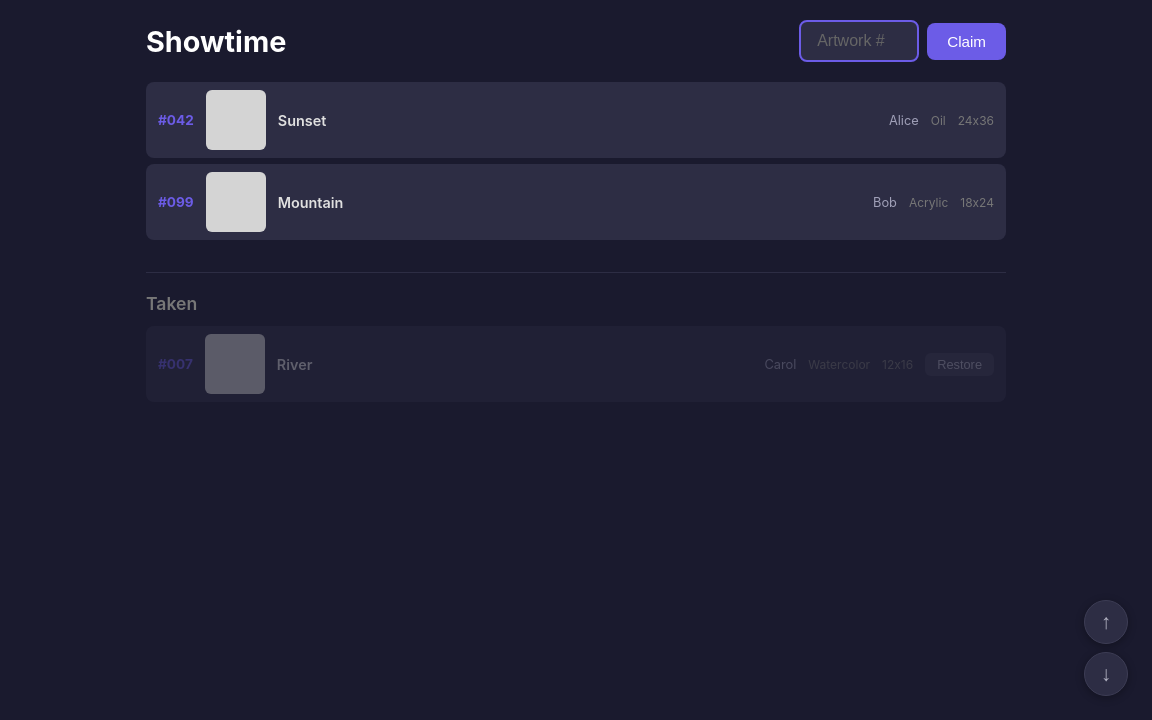
Test: ShowtimePage › shows confirm dialog when claiming an available photo
Type "42" into the field with placeholder "Artwork #" at (859,41), box [799,20,919,62]
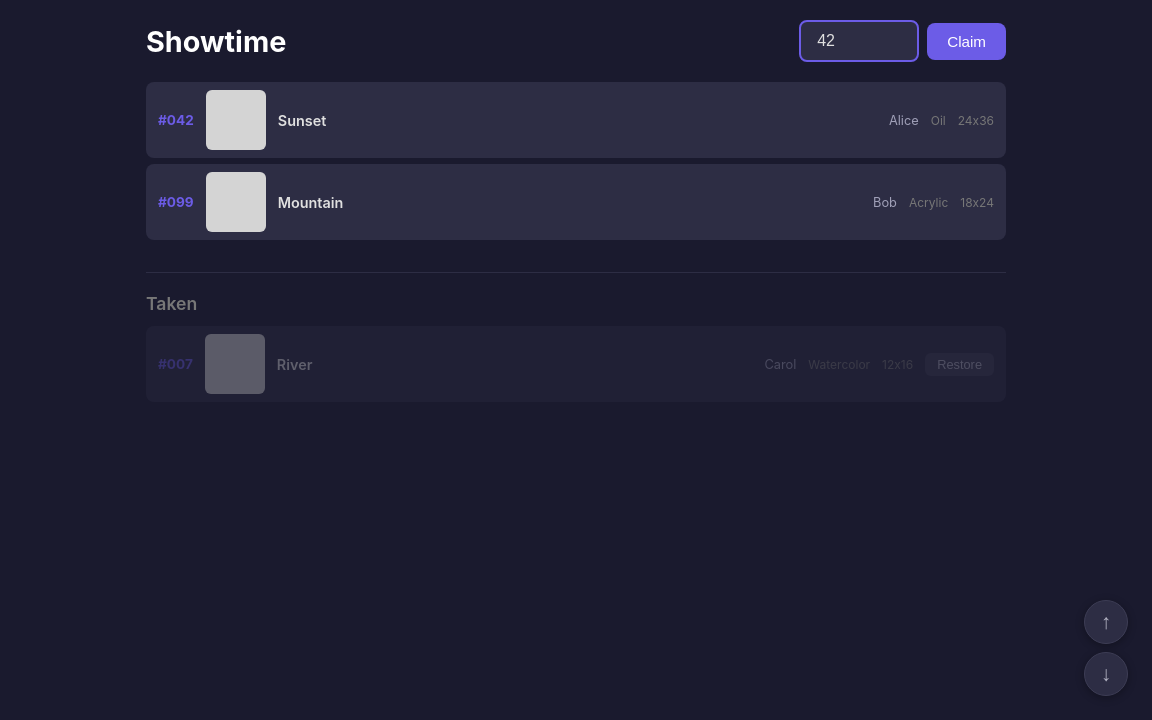
Click the button "Claim" at (967,41), box [927,22,1006,60]
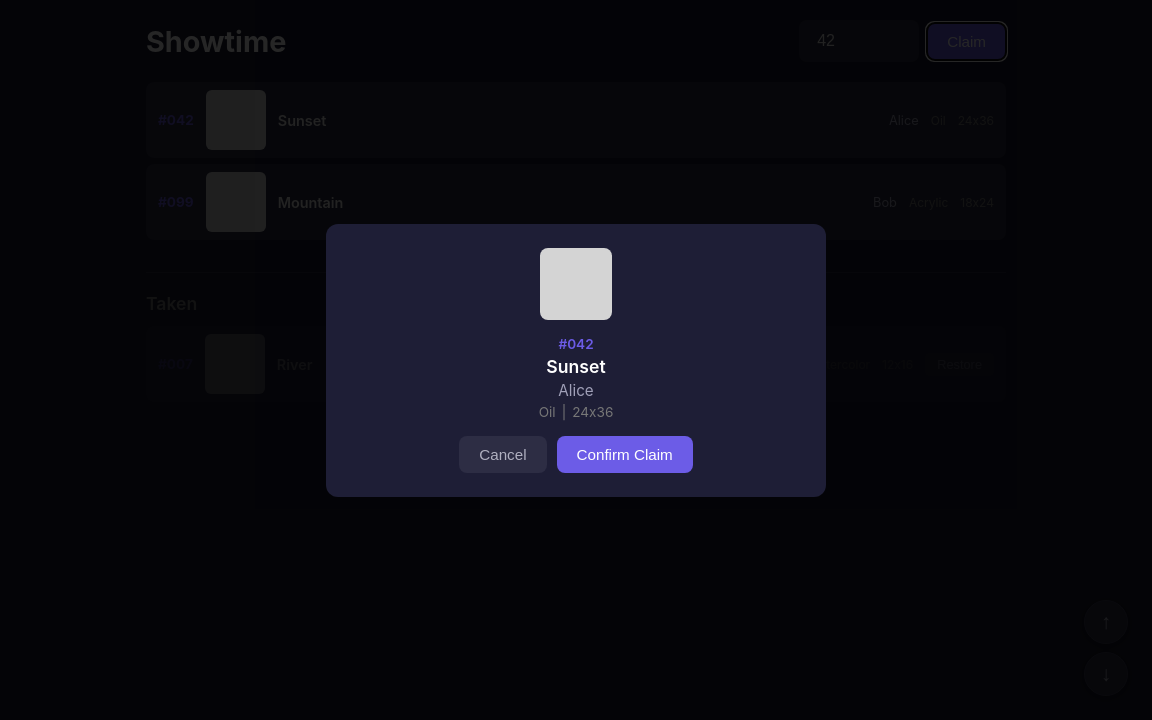
Expected: the button "Confirm Claim" is shown, [556,436,693,472]
